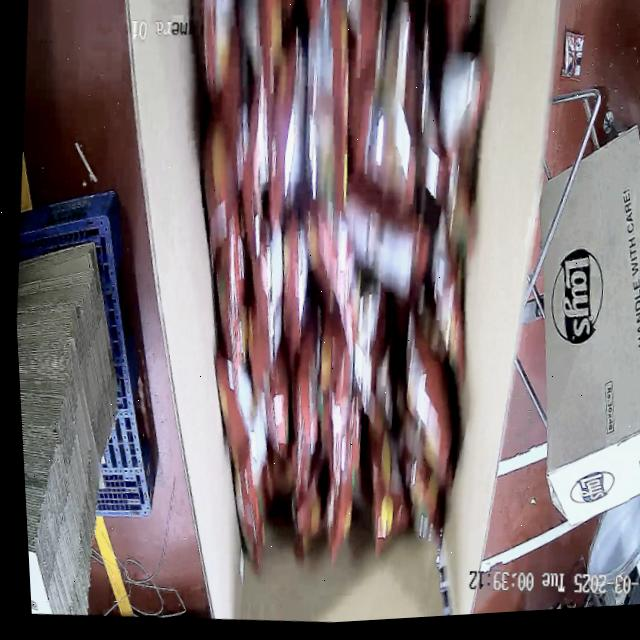MASALA: (146, 0, 517, 599)
